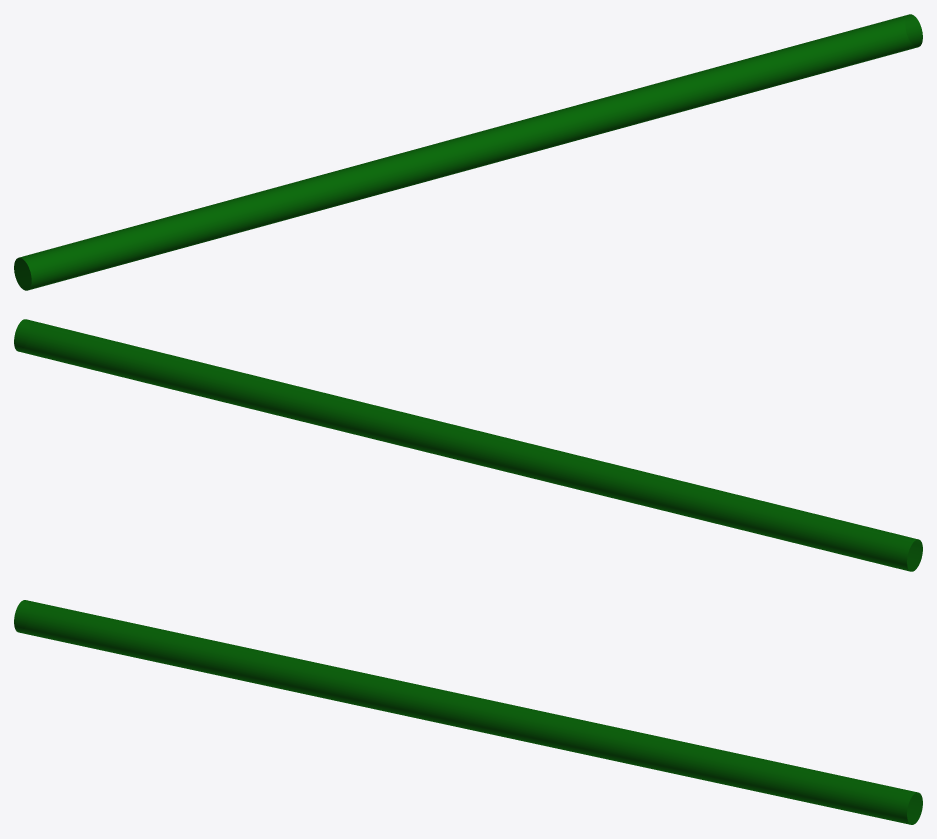
The model's file is Event_192787598_jet_4.fbx.
3 renders of one model, top to bottom at view 1: azimuth 30°, elevation 25°; view 2: azimuth 150°, elevation 25°; view 3: azimuth 330°, elevation 25°, orthographic. The views are drawn at different scales.
Parts seen in each view (by area): view 1: Model; view 2: Model; view 3: Model.
Boxes of the visible parts, left/top/right/bottom form: Model: left=14, top=14, right=922, bottom=290; Model: left=14, top=319, right=922, bottom=571; Model: left=14, top=600, right=922, bottom=824.
Bounding box in the file's own units: 1.22 × 0.0585 × 0.0682.
